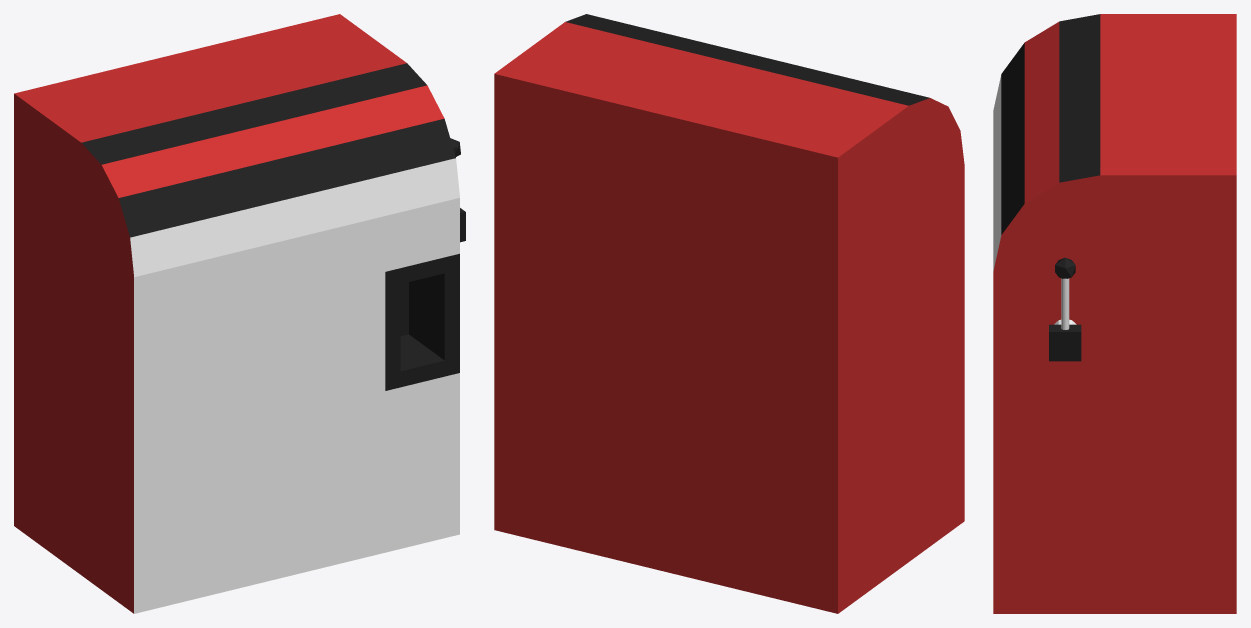
Rendered from machine1.glb.
3 views of the same model, side by side, from view 1: azimuth 30°, elevation 25°; view 2: azimuth 150°, elevation 25°; view 3: azimuth 270°, elevation 25° (orthographic). The views are drawn at different scales.
Parts seen in each view (by area): view 1: machine; view 2: machine; view 3: machine, Cylinder.
Part boxes in pixels (x1,y1,x2,y2): machine: (14,14,459,613); machine: (494,14,964,613); machine: (993,14,1236,613); Cylinder: (1049,257,1081,361).
Bounding box in the file's own units: 1.49 × 1.7 × 0.8554.
